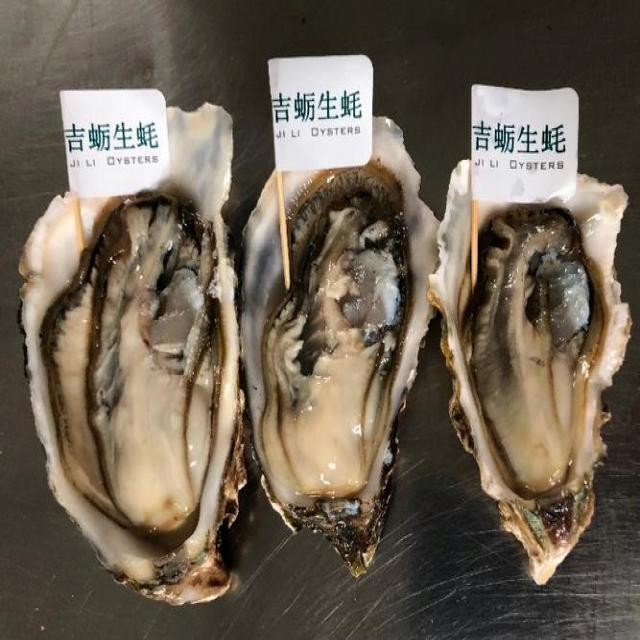Oyster-Open: (23, 106, 246, 608), (241, 117, 440, 578), (429, 162, 632, 588)
